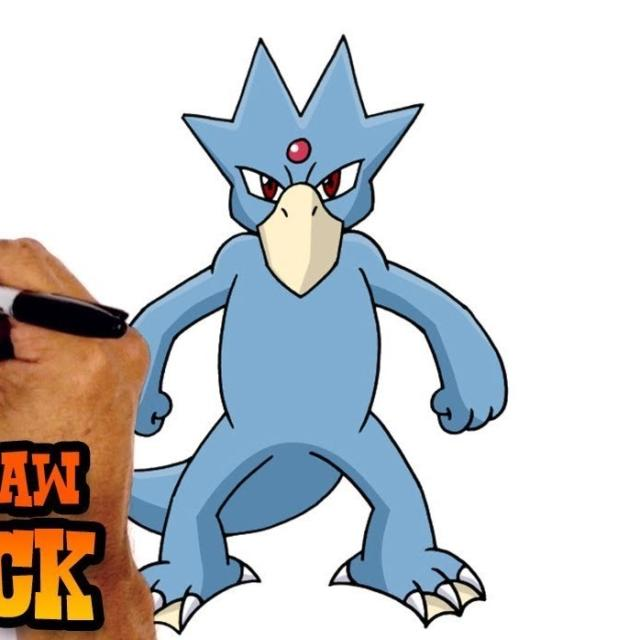Golduck: (143, 28, 495, 635)
